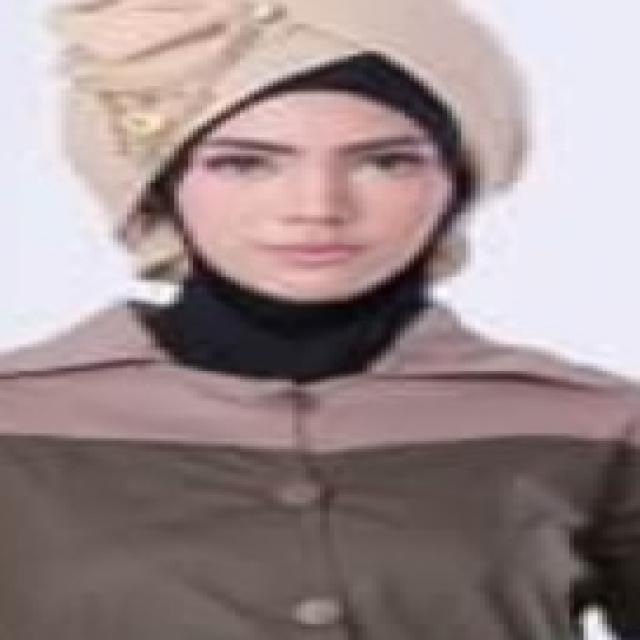head: (126, 28, 518, 312)
